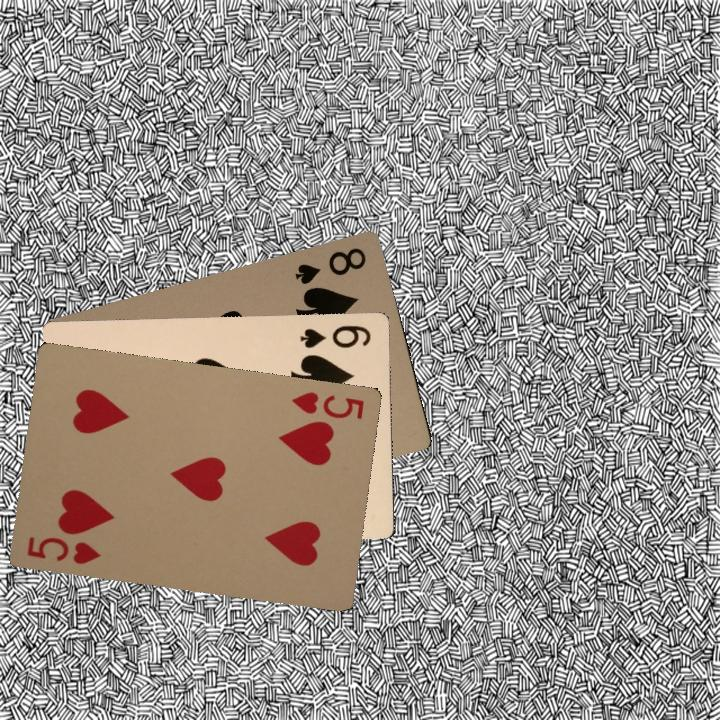5h: (23, 533, 104, 567), (287, 388, 366, 422)
6s: (296, 321, 373, 351)
8s: (291, 243, 369, 287)
